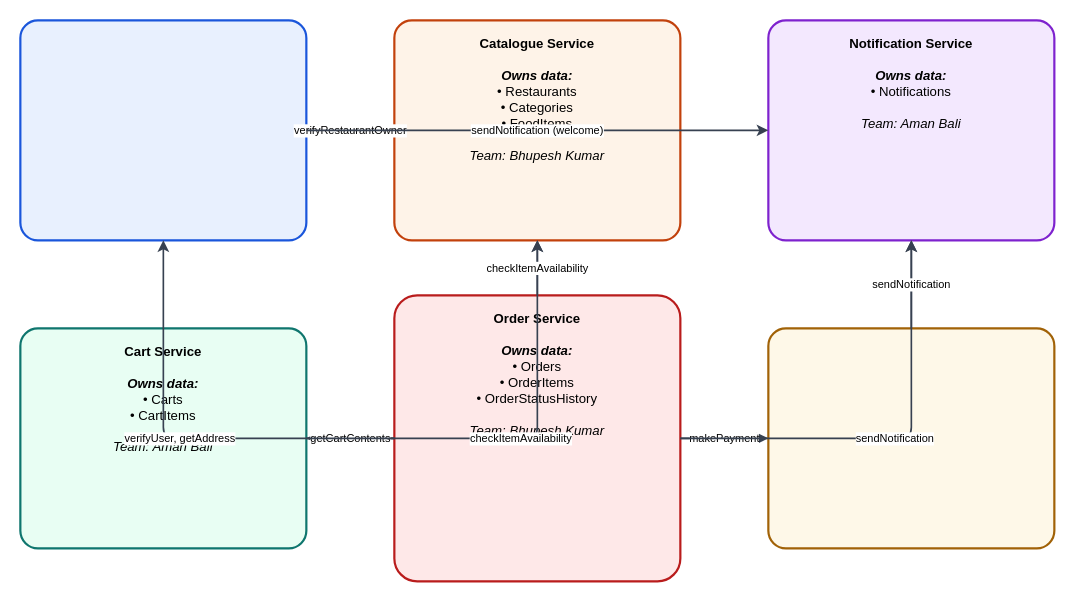
The diagram is 1074 pixels wide and 601 high, and some of its shapes have lost their labels. Here are the shapes that lost their labels. From the top down, the box of each, then its label:
(19, 19, 307, 241): Identity & Access Service Owns data: • Users • Addresses Team: Bhupesh Kumar
(767, 327, 1055, 549): Payment Service Owns data: • Payments • PaymentTransactions Team: Aman Bali
